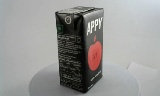appy: (50, 5, 97, 93)
